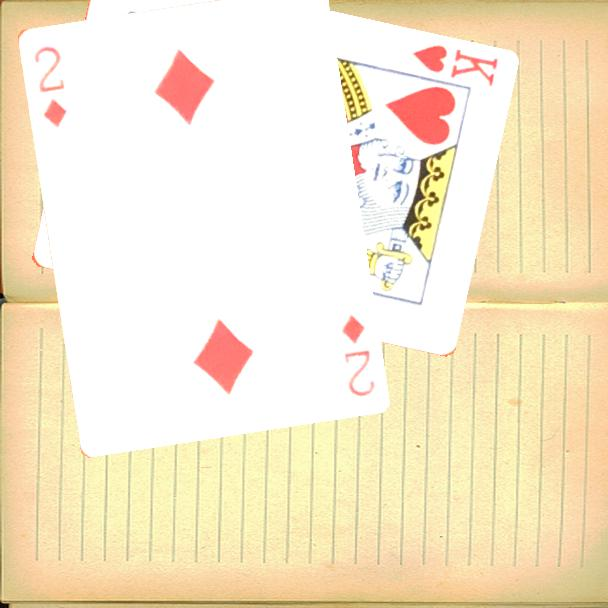d02: (337, 311, 377, 399), (30, 42, 69, 130)
h13: (408, 41, 501, 89)
